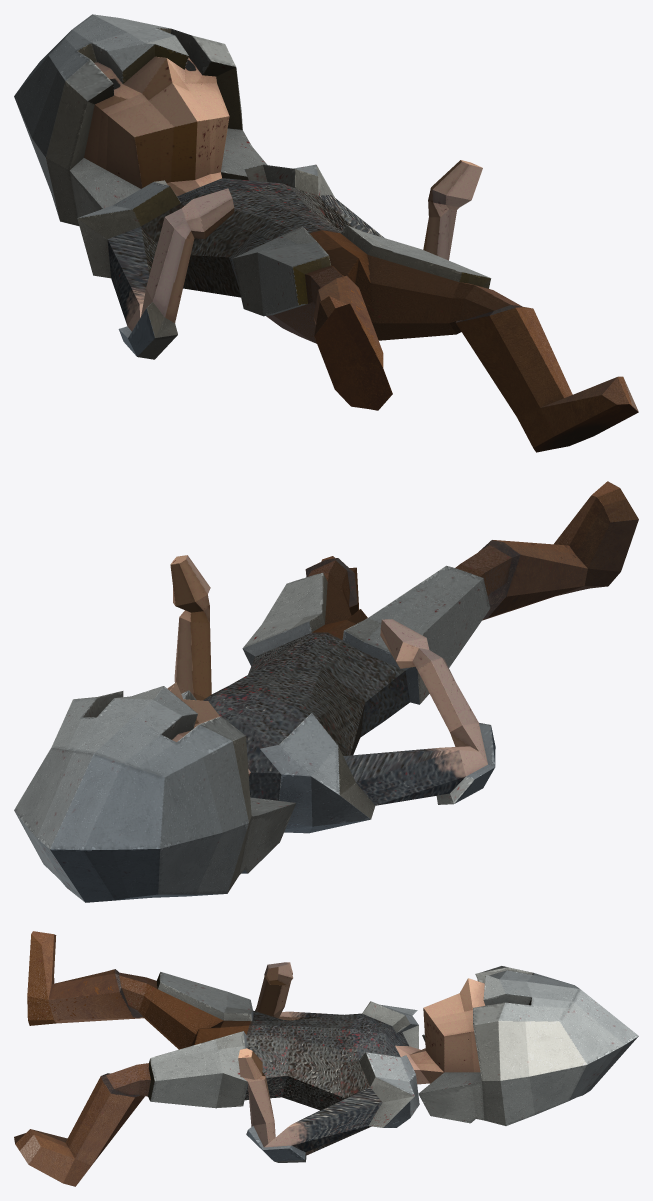
The model's file is Walk_Soldier_7.obj.
The picture shows the model from 3 angles, top to bottom: view 1: azimuth 30°, elevation 25°; view 2: azimuth 150°, elevation 25°; view 3: azimuth 270°, elevation 25°; orthographic projection. The views are drawn at different scales.
Visible parts, largest first — view 1: Soldado_LowPolySTD; view 2: Soldado_LowPolySTD; view 3: Soldado_LowPolySTD.
Part boxes in pixels (x1=…): Soldado_LowPolySTD: x1=14, y1=14, x2=638, y2=452; Soldado_LowPolySTD: x1=14, y1=481, x2=638, y2=902; Soldado_LowPolySTD: x1=14, y1=931, x2=638, y2=1186.
Bounding box in the file's own units: 1.37 × 0.8782 × 2.98.
